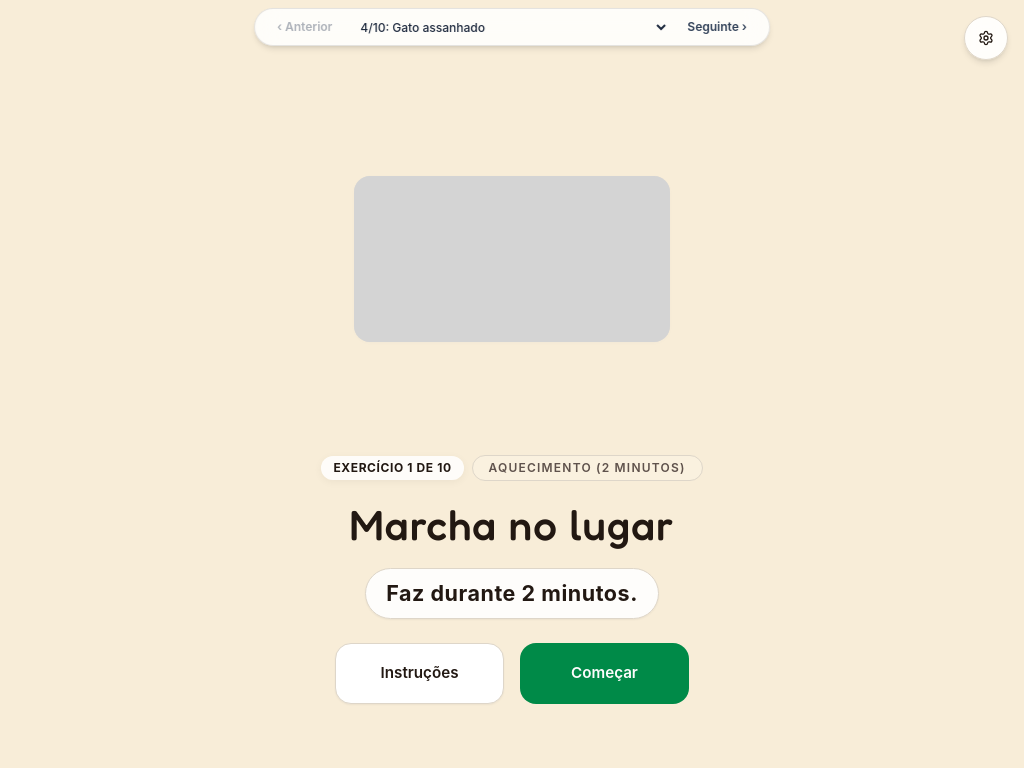
Test: exercise programme › keeps repetition media mounted when the exercise starts
This screenshot has width=1024, height=768.
Select "4/10: Gato assanhado" in the dropdown named "selecionar exercício" at (510, 27), box [350,16,669,38]
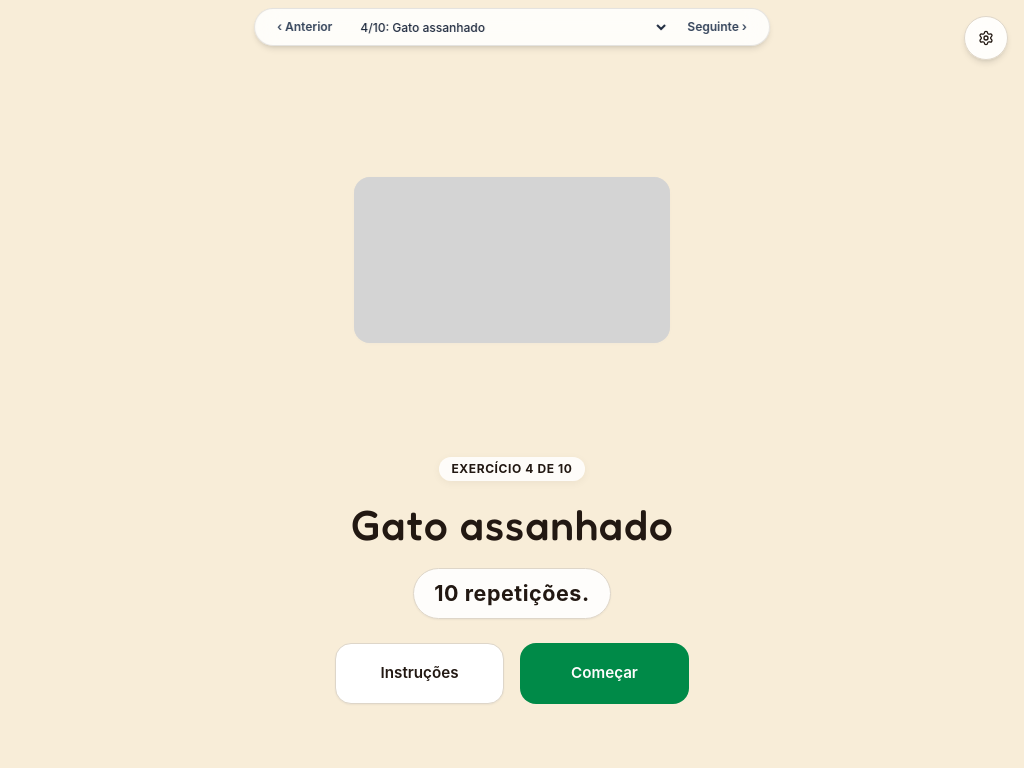
Click the button "Começar" at (604, 673), box [520,643,689,704]
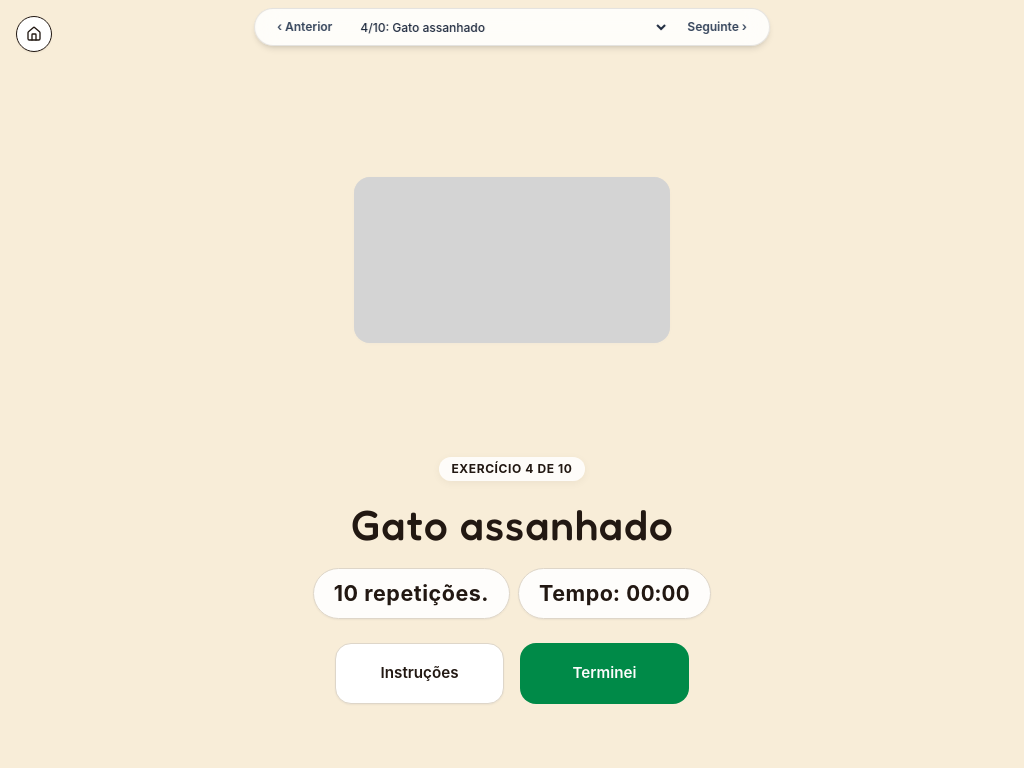
Expected: the text "10 repetições." is shown, [313,568,510,619]
Expected: the button "Terminei" is shown, [520,643,689,704]
